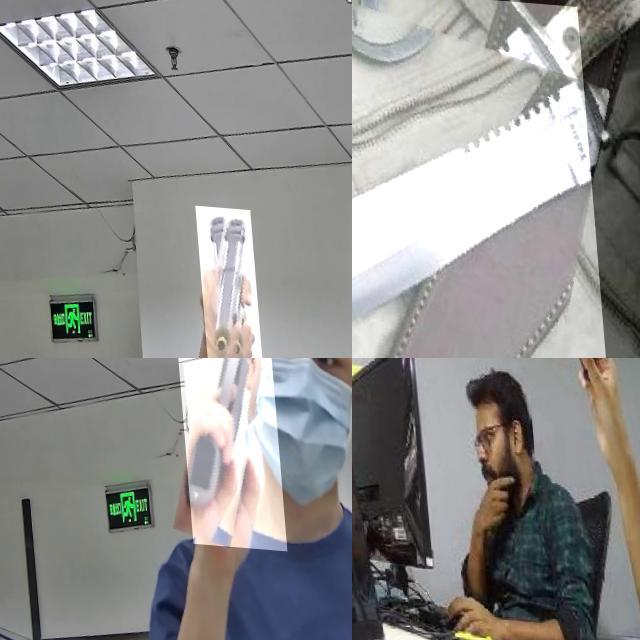-: (352, 0, 606, 358), (504, 358, 584, 432)
gun-knife-thesis - v11 Yolov5 augmented: (167, 358, 280, 546), (190, 201, 256, 358)
